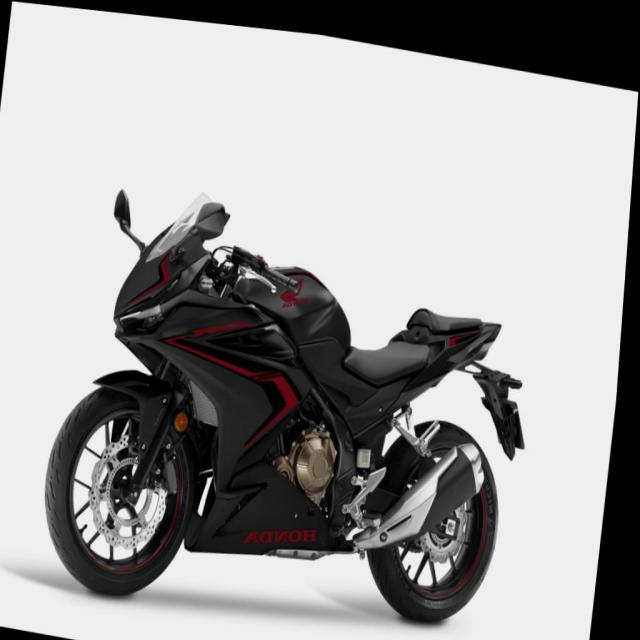CBR500R: (38, 165, 553, 640)
